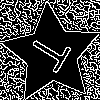T: (26, 28, 80, 79)
